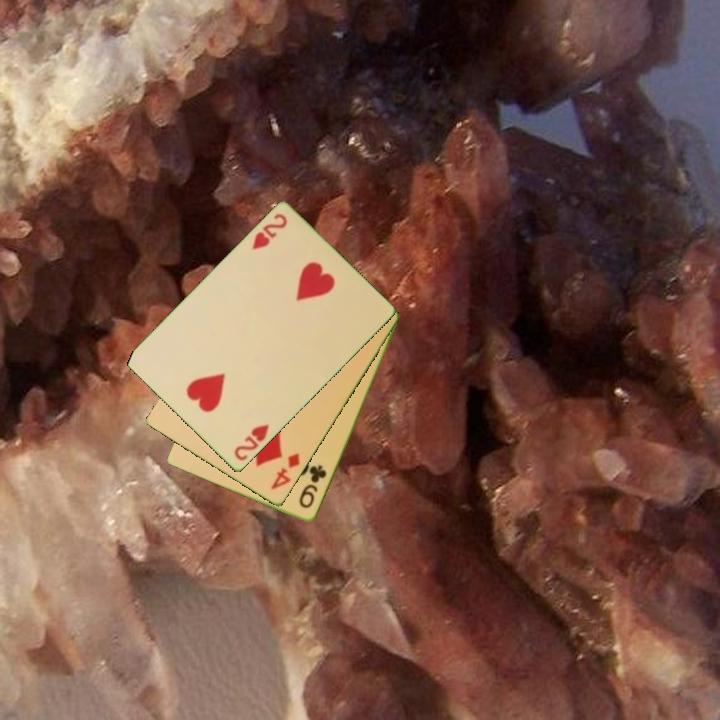2h: (248, 210, 290, 253), (231, 421, 272, 464)
4d: (267, 450, 303, 493)
9c: (295, 461, 330, 512)
